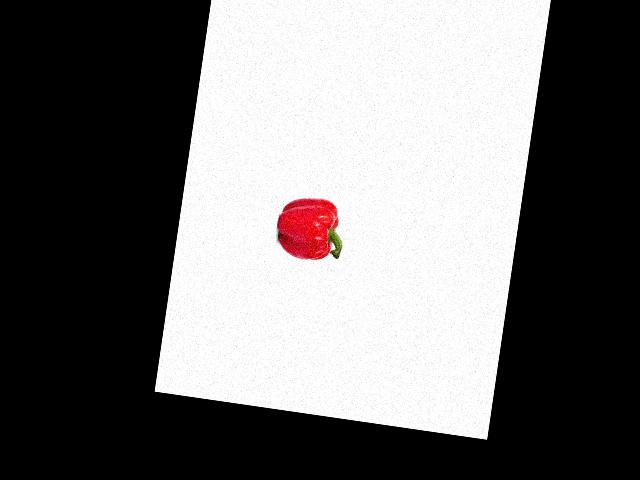bell_pepper: (273, 189, 350, 266)
